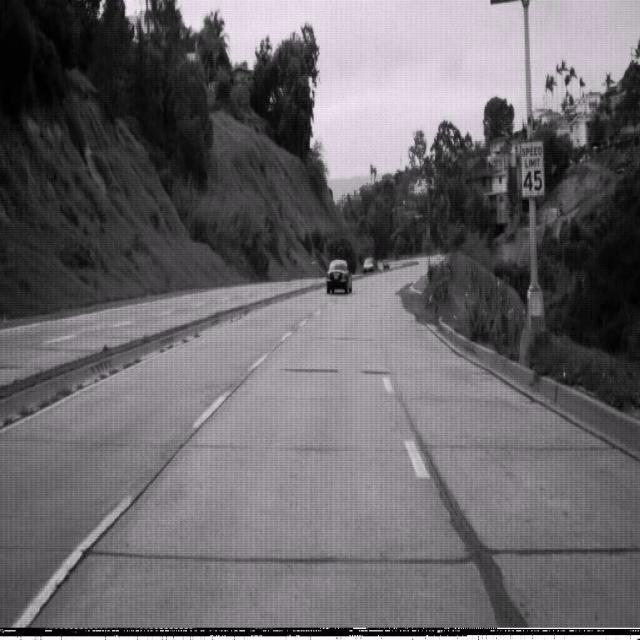speedLimit45: (520, 137, 546, 199)
